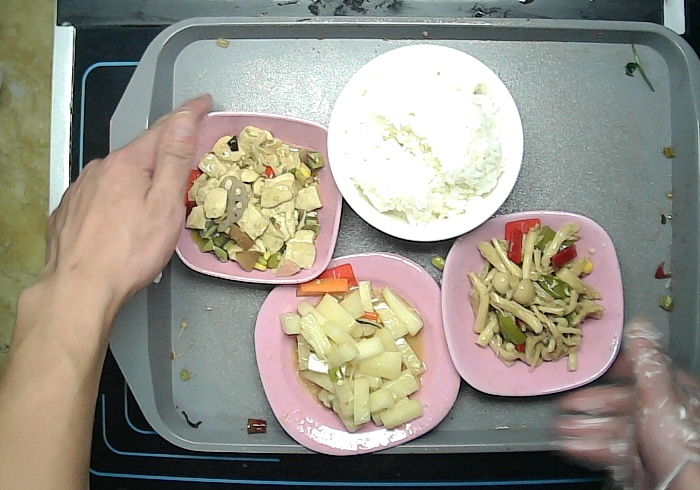SHKJ-Fan_Wan: (327, 44, 524, 241)
SHKJ-Fen_Se_Cai_Die: (441, 213, 624, 395)
SHKJ-Fen_Se_Si_Fang_Cai_Die: (254, 252, 458, 449)
SHKJ-Fen_Se_Xiao_Fang_Die: (171, 111, 345, 283)
